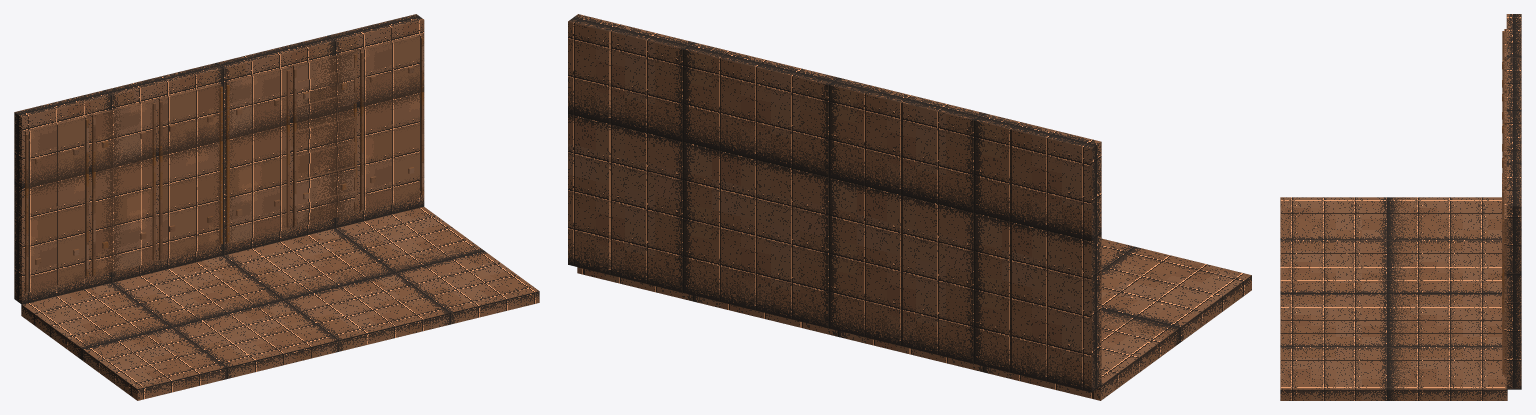
Rendered from secret_broken_construction.glb.
3 renders of one model, left to right at view 1: azimuth 30°, elevation 25°; view 2: azimuth 150°, elevation 25°; view 3: azimuth 270°, elevation 25°, orthographic. The views are drawn at different scales.
Visible parts, largest first — view 1: secret_broken_construction; view 2: secret_broken_construction; view 3: secret_broken_construction.
Part boxes in pixels (x1,y1,x2,y2): secret_broken_construction: [14, 14, 539, 400]; secret_broken_construction: [568, 14, 1251, 400]; secret_broken_construction: [1280, 14, 1521, 400].
Size of the model in its own units: 7.2 by 3.4 by 3.82.
4 materials, 4 textured.
